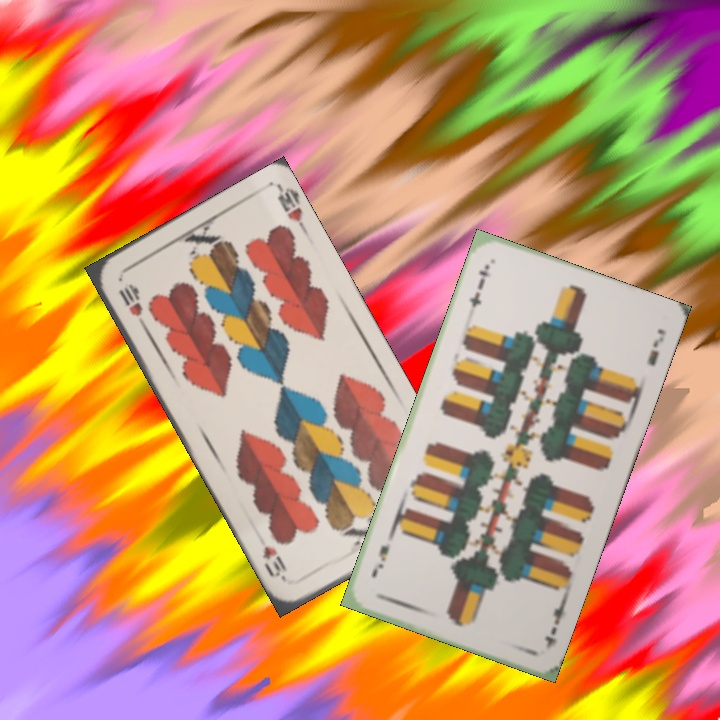E7: (540, 595, 569, 652), (464, 260, 494, 311)
H10: (114, 281, 149, 331)
